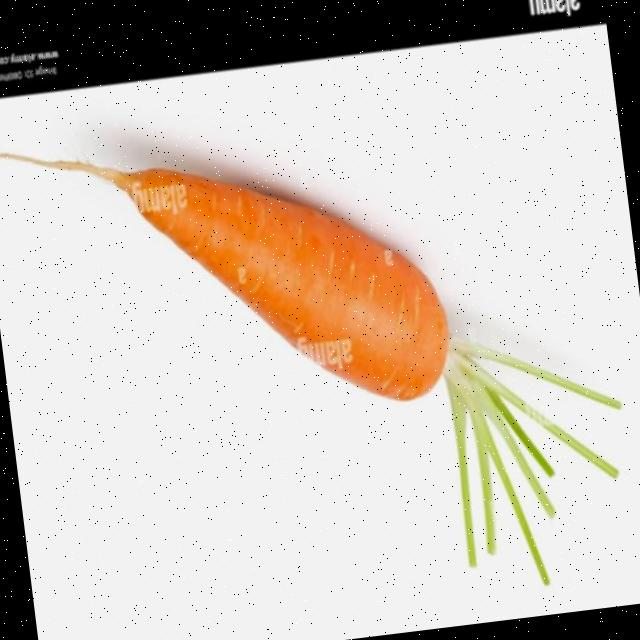carrot: (0, 151, 618, 583)
